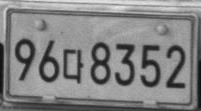2: (165, 44, 186, 88)
3: (114, 43, 135, 86)
5: (140, 44, 161, 88)
6: (38, 39, 60, 83)
8: (89, 41, 112, 85)
9: (13, 37, 36, 80)
다: (61, 48, 84, 83)
